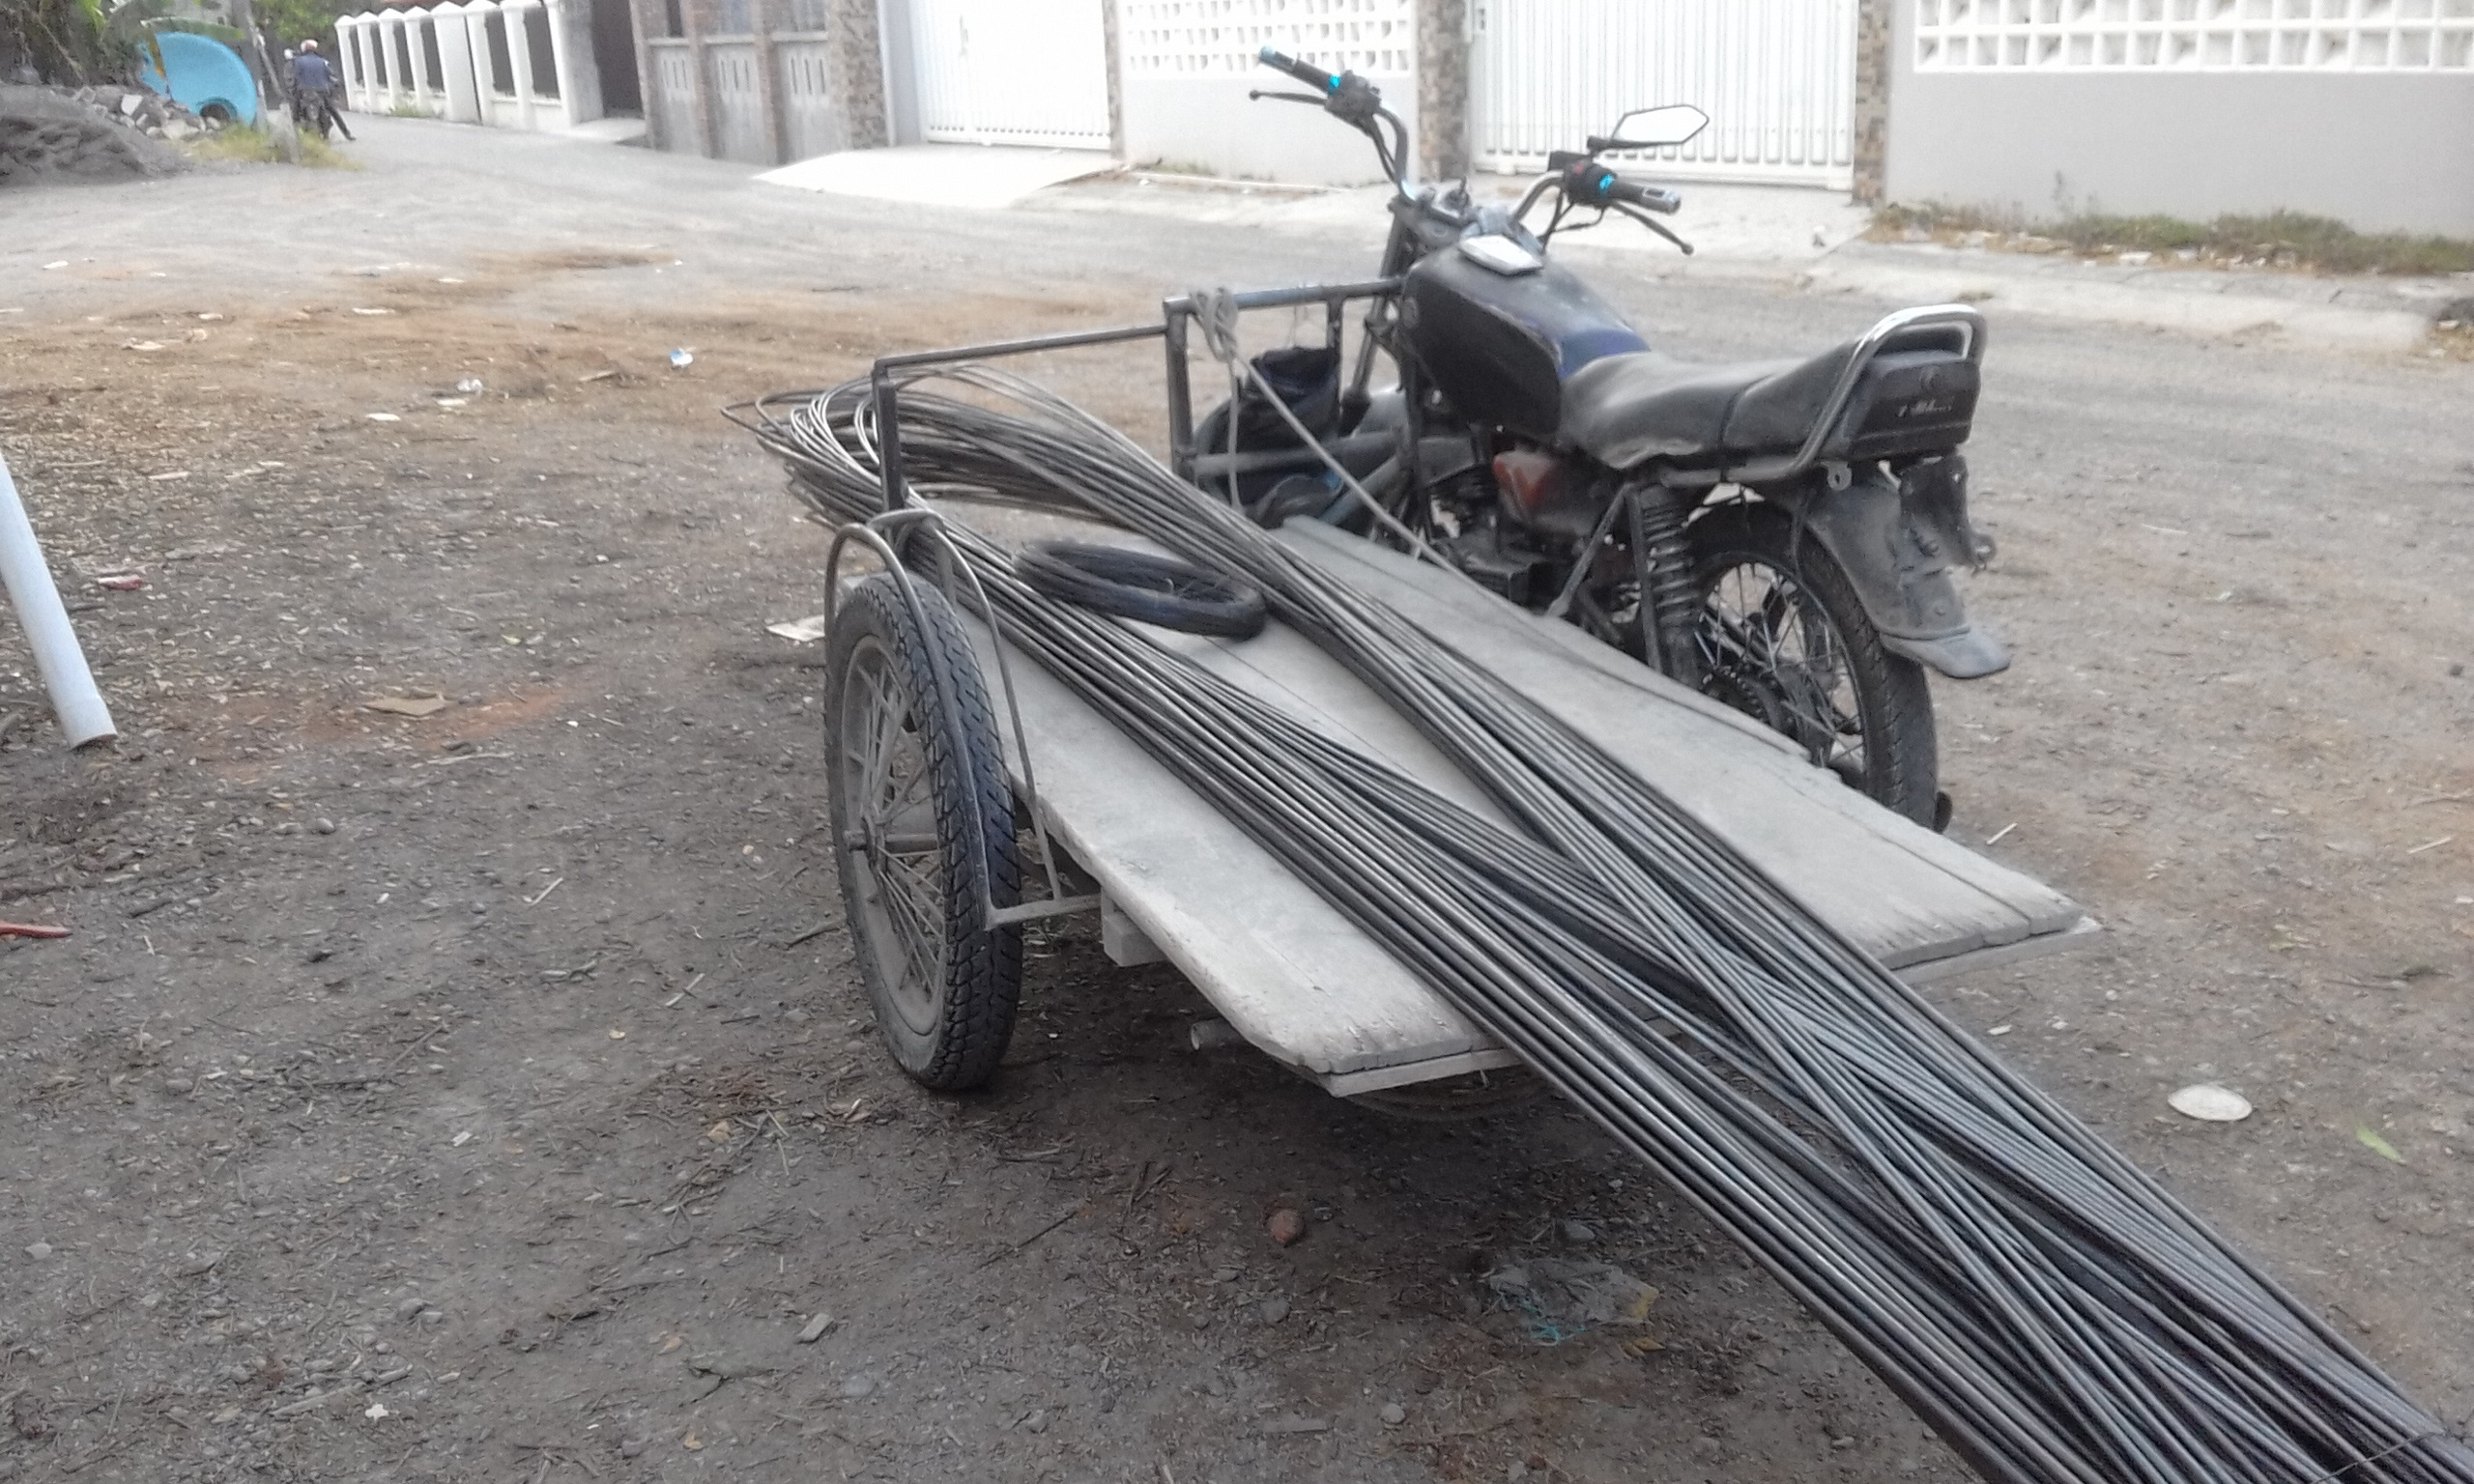becak barang: (725, 35, 2136, 1118)
